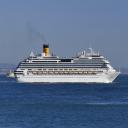cruises: (14, 42, 123, 86)
